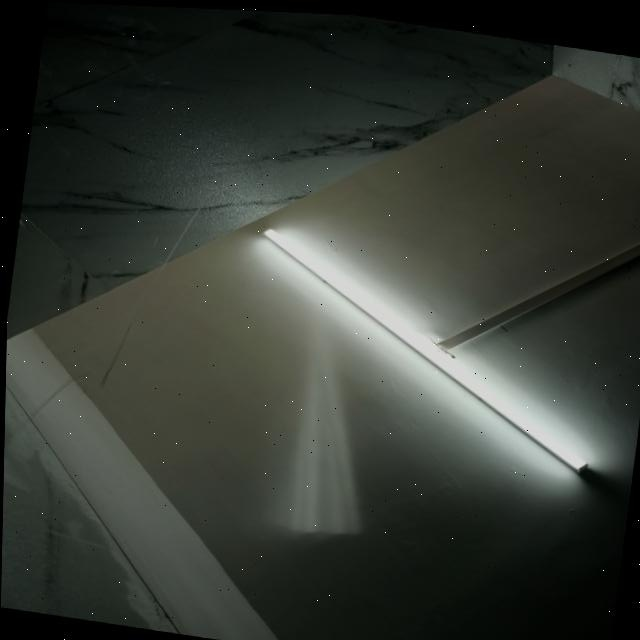fluorescent tube: (237, 226, 607, 468)
